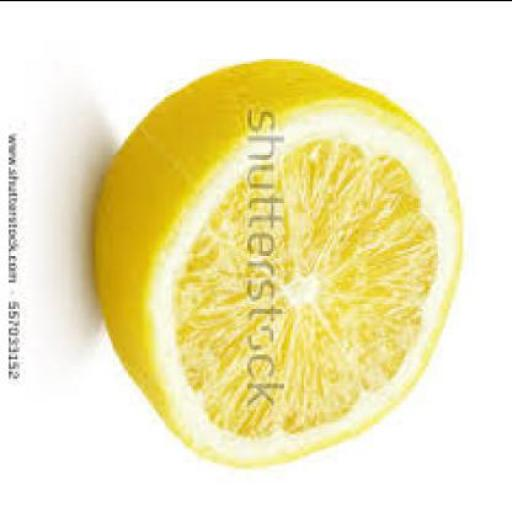biodegradable: (93, 53, 465, 466)
